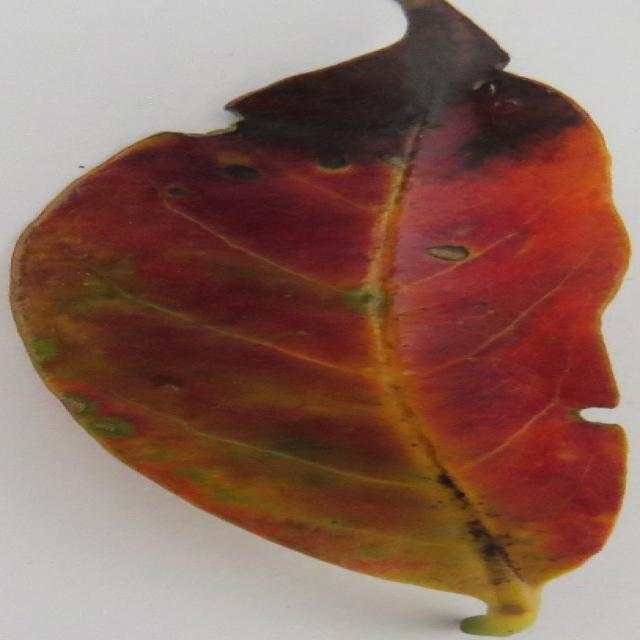DeficienciaNutricional-Fosforo: (12, 0, 628, 636)
